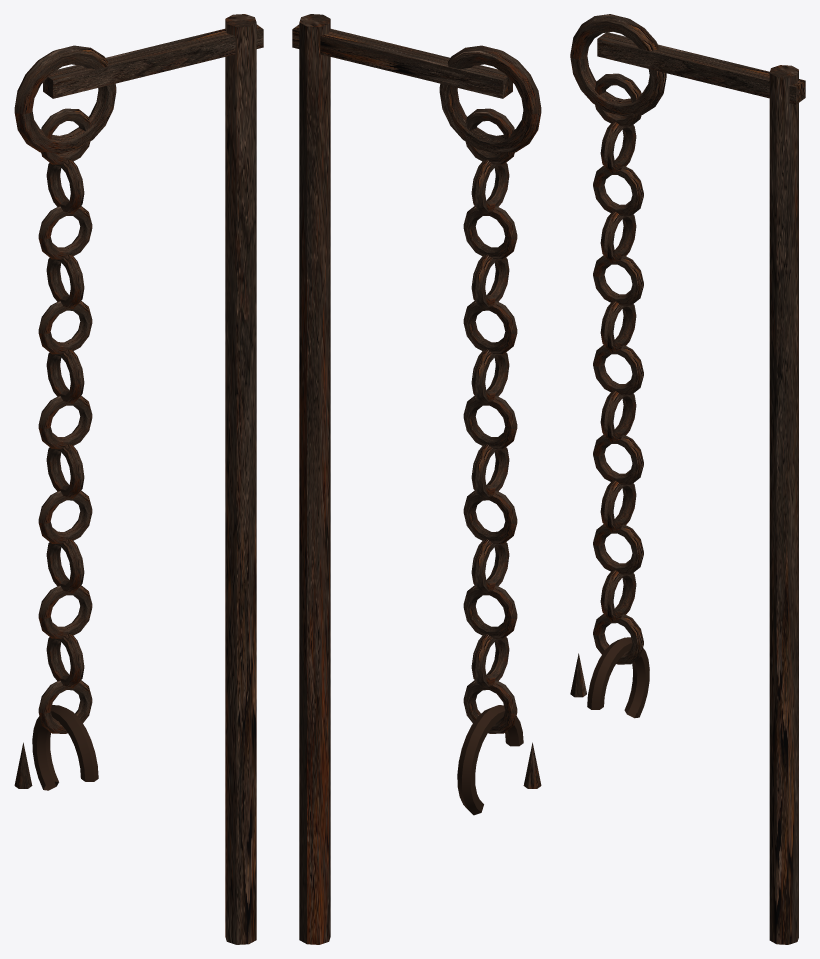
File: hook-chain-v01-photo.glb
The picture shows the model from 3 angles, left to right: view 1: azimuth 30°, elevation 25°; view 2: azimuth 150°, elevation 25°; view 3: azimuth 330°, elevation 25°; orthographic projection. The views are drawn at different scales.
Parts seen in each view (by area): view 1: hook-chain; view 2: hook-chain; view 3: hook-chain.
Boxes of the visible parts, x1,y1,x2,y2 form: hook-chain: [14, 14, 263, 944]; hook-chain: [292, 14, 541, 944]; hook-chain: [570, 14, 805, 944].
Size of the model in its own units: 0.695 by 2.54 by 0.2836.
1 material, 1 textured.
